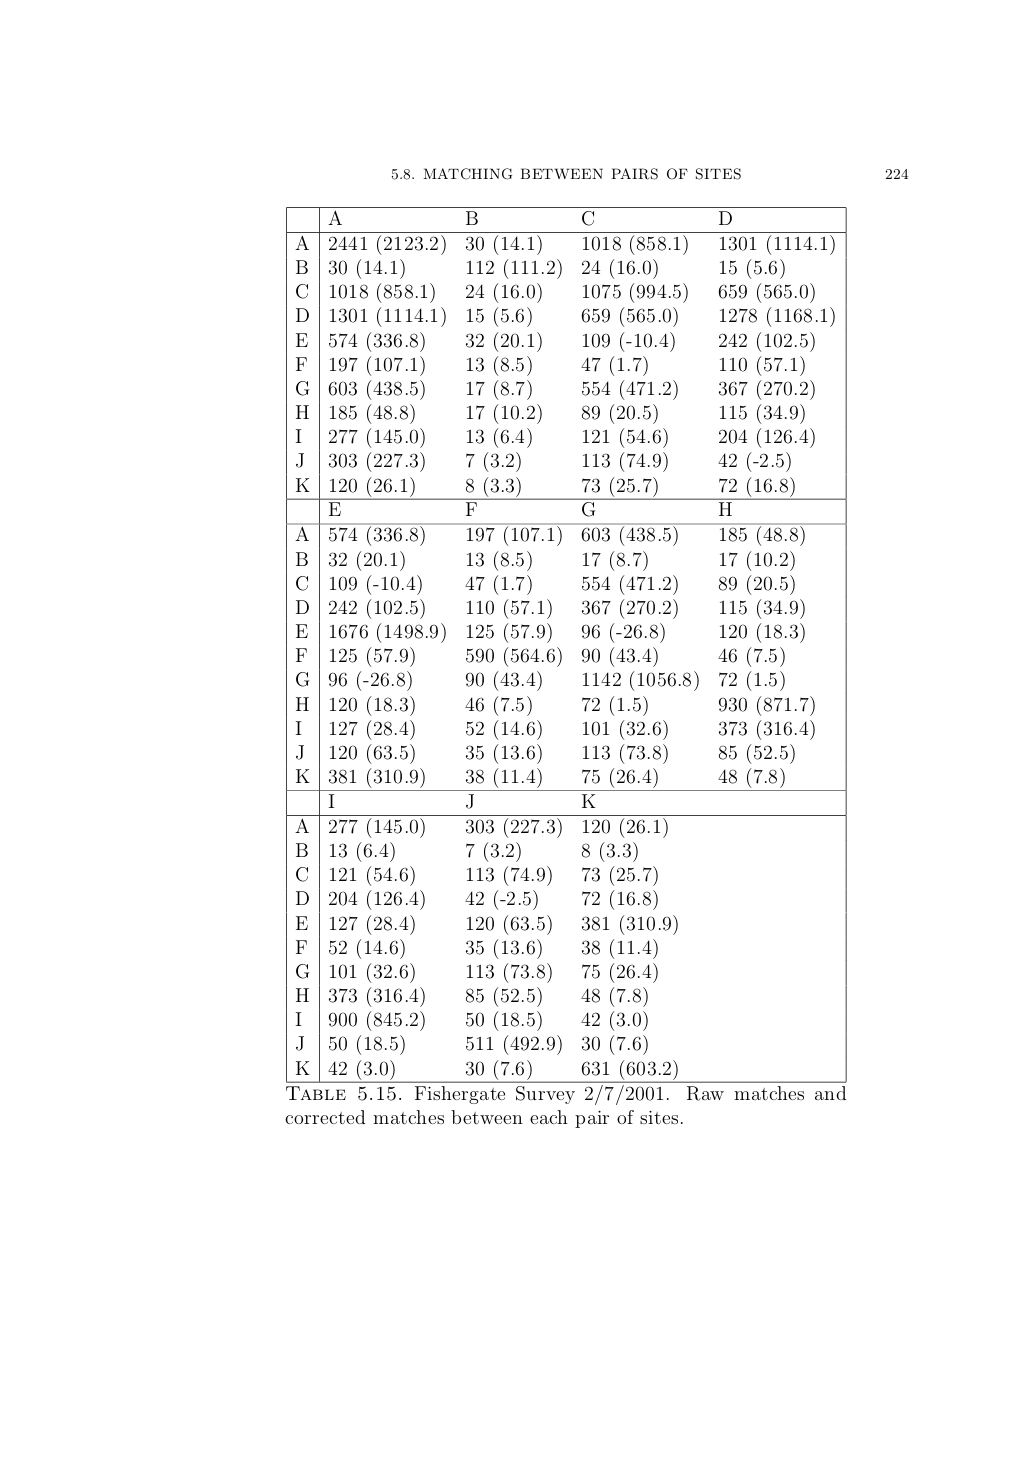Table: (286, 207, 846, 1086)
